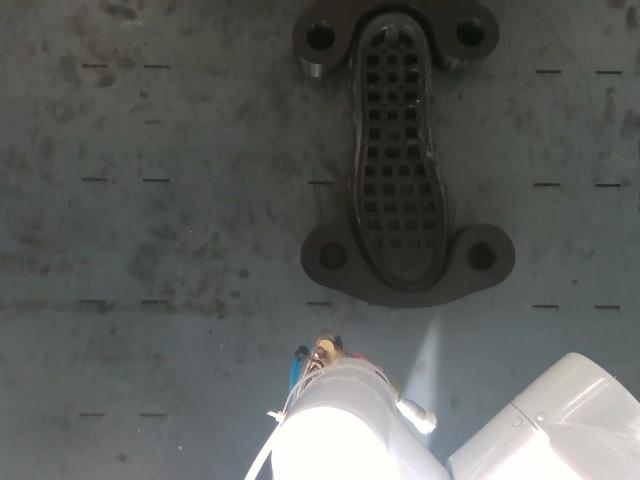shoes: (356, 13, 445, 288)
